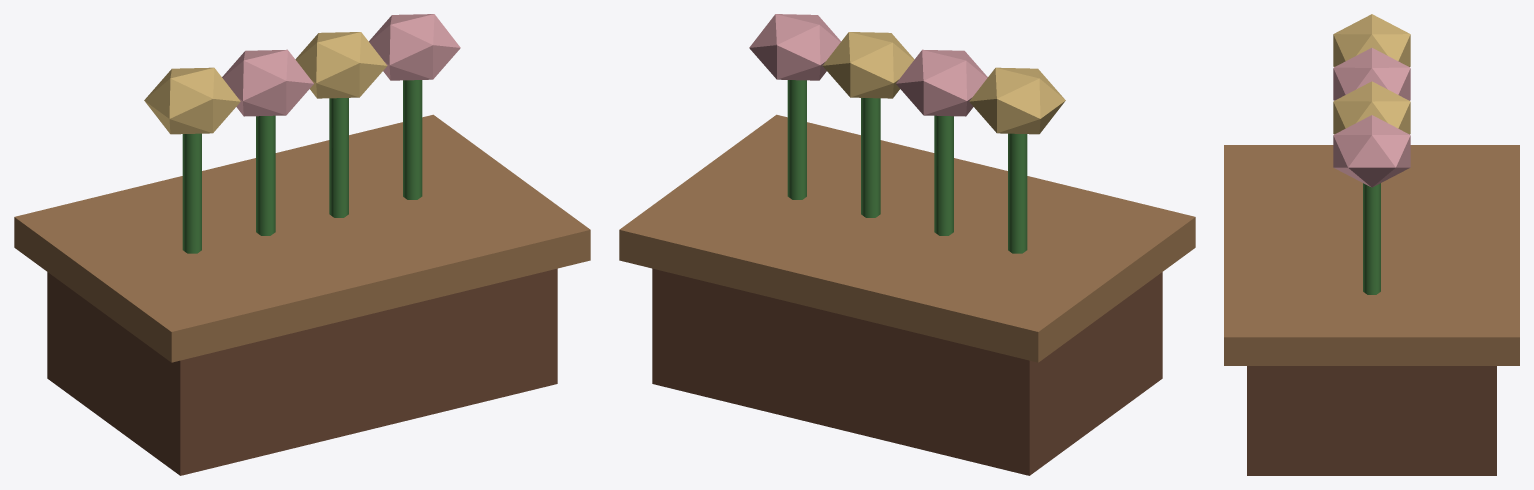
Rendered from planter.glb.
The picture shows the model from 3 angles, left to right: view 1: azimuth 30°, elevation 25°; view 2: azimuth 150°, elevation 25°; view 3: azimuth 270°, elevation 25°; orthographic projection. The views are drawn at different scales.
Size of the model in its own units: 2 by 1.53 by 1.3.
